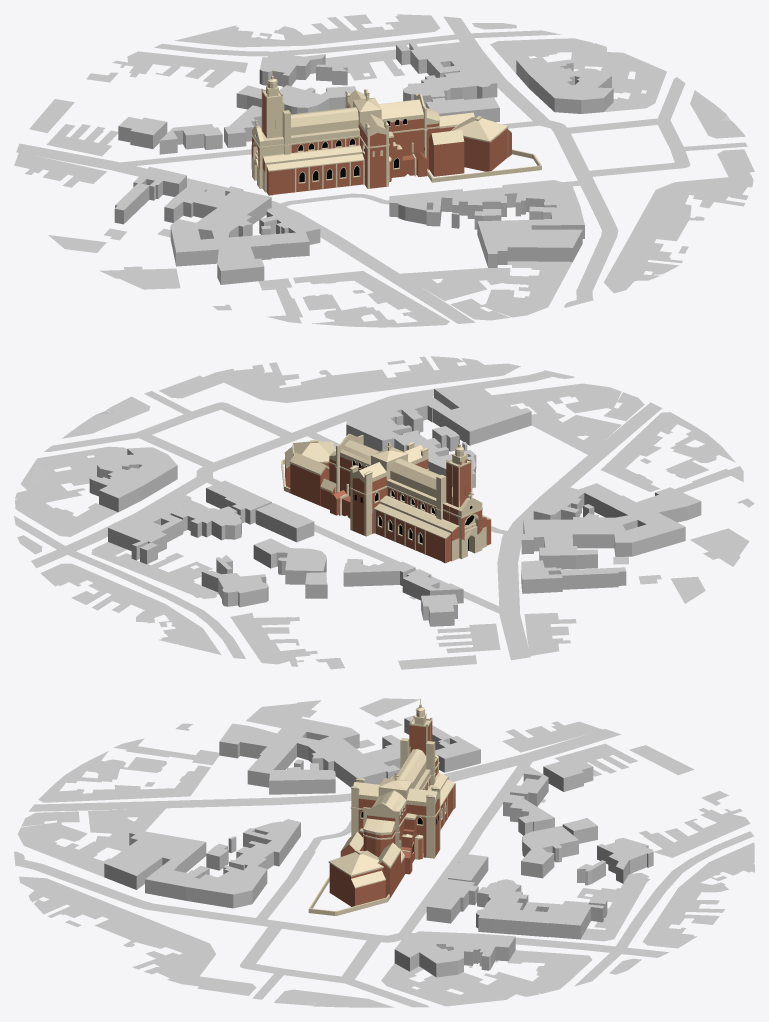
File: albert_basilique_notre_dame_de_brebieres.glb
3 views of the same model, one above another, from view 1: azimuth 30°, elevation 25°; view 2: azimuth 150°, elevation 25°; view 3: azimuth 270°, elevation 25° (orthographic).
Parts seen in each view (by area): view 1: city-albert, poi-albert, Routes; view 2: city-albert, poi-albert, Routes; view 3: city-albert, Routes, poi-albert.
Boxes of the visible parts, x1=… form: city-albert: x1=14, y1=14, x2=754, y2=327; poi-albert: x1=251, y1=70, x2=541, y2=195; Routes: x1=16, y1=16, x2=747, y2=323; city-albert: x1=15, y1=356, x2=754, y2=669; poi-albert: x1=281, y1=433, x2=491, y2=563; Routes: x1=14, y1=370, x2=662, y2=660; city-albert: x1=18, y1=698, x2=754, y2=1007; Routes: x1=14, y1=729, x2=753, y2=1007; poi-albert: x1=308, y1=699, x2=455, y2=915.
Size of the model in its own units: 1.14 by 0.1901 by 1.16.
